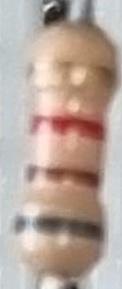Brown: (25, 164, 101, 191)
Green: (16, 217, 104, 244)
Red: (28, 115, 106, 138)
Side-Gold: (21, 60, 118, 92)
